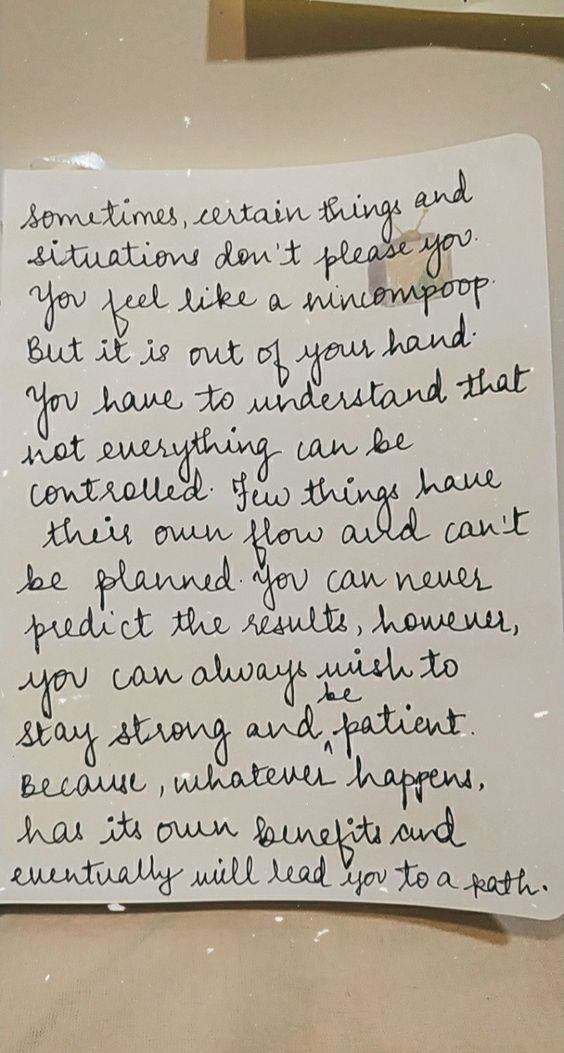page: (5, 177, 549, 899)
